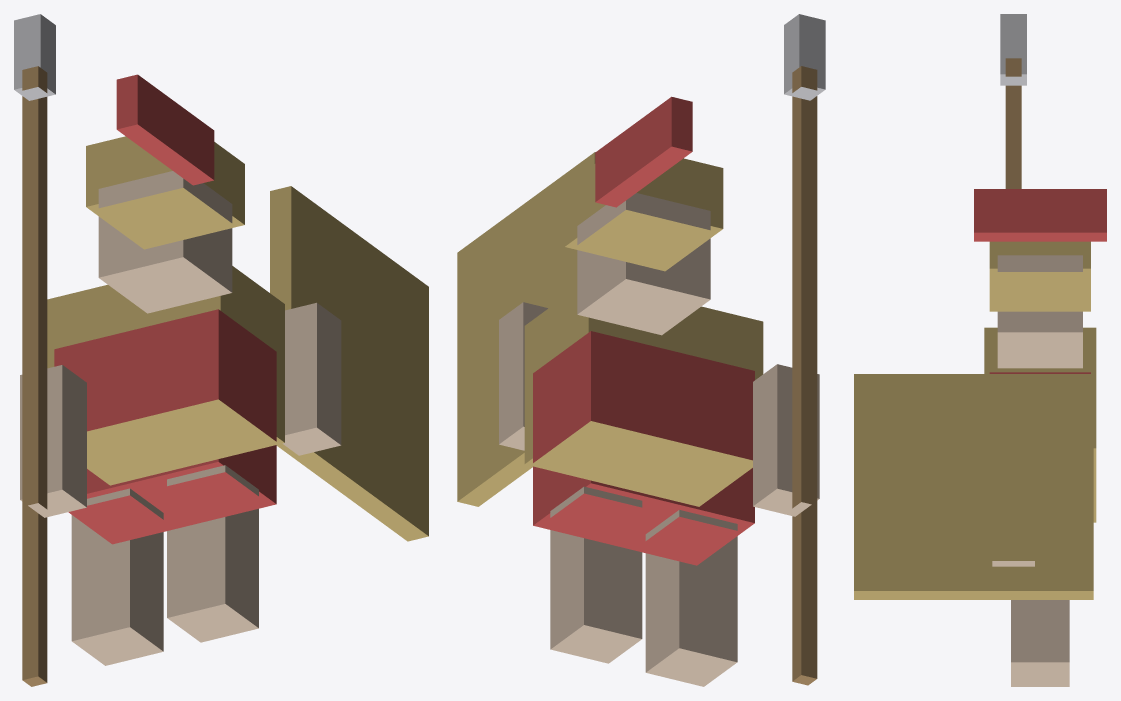
The model's file is hoplita.glb.
3 renders of one model, left to right at view 1: azimuth 30°, elevation 25°; view 2: azimuth 150°, elevation 25°; view 3: azimuth 270°, elevation 25°, orthographic. The views are drawn at different scales.
Visible parts, largest first — view 1: Hoplite; view 2: Hoplite; view 3: Hoplite.
Part boxes in pixels (box(x1,y1,x2,y2)): Hoplite: box(14, 14, 428, 686); Hoplite: box(457, 14, 825, 686); Hoplite: box(854, 14, 1106, 686).
Size of the model in its own units: 1.19 by 2.38 by 0.95.
